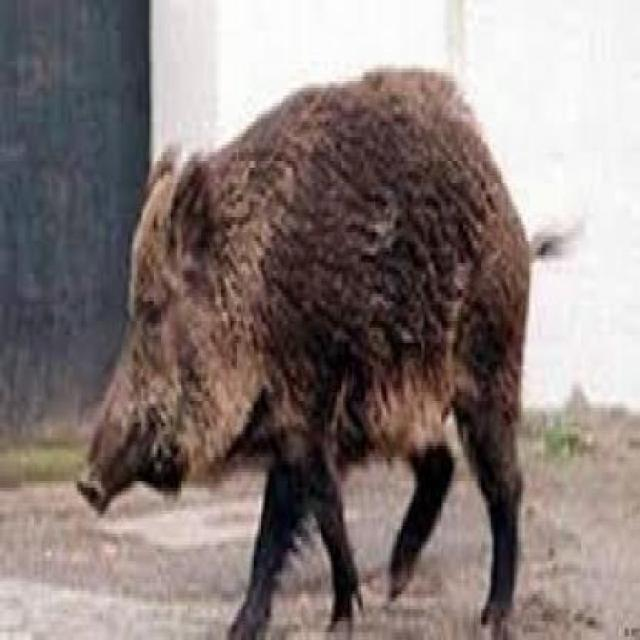wildboar: (71, 61, 588, 640)
